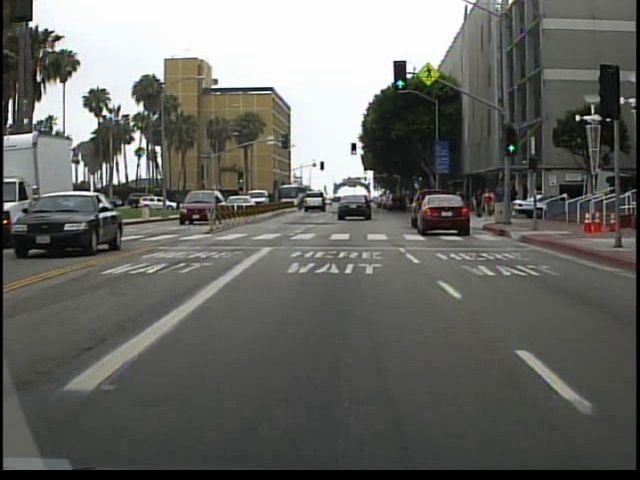person: (478, 186, 494, 224), (494, 182, 507, 219), (504, 183, 518, 217)
